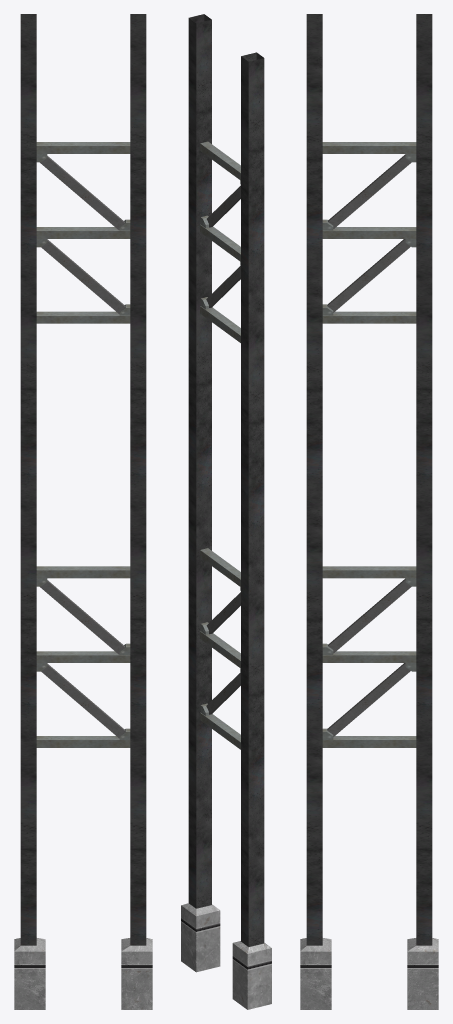
File: Ob_ScafSupport_RC.fbx
3 views of the same model, side by side, from view 1: azimuth 90°, elevation 25°; view 2: azimuth 210°, elevation 25°; view 3: azimuth 270°, elevation 25° (orthographic). The views are drawn at different scales.
Visible parts, largest first — view 1: Ob_ScafSupport_RC; view 2: Ob_ScafSupport_RC; view 3: Ob_ScafSupport_RC.
Boxes of the visible parts, <box> form: Ob_ScafSupport_RC: <box>14,14,152,1009</box>; Ob_ScafSupport_RC: <box>181,14,271,1009</box>; Ob_ScafSupport_RC: <box>300,14,438,1009</box>.
Bounding box in the file's own units: 74.88 × 2785 × 355.
